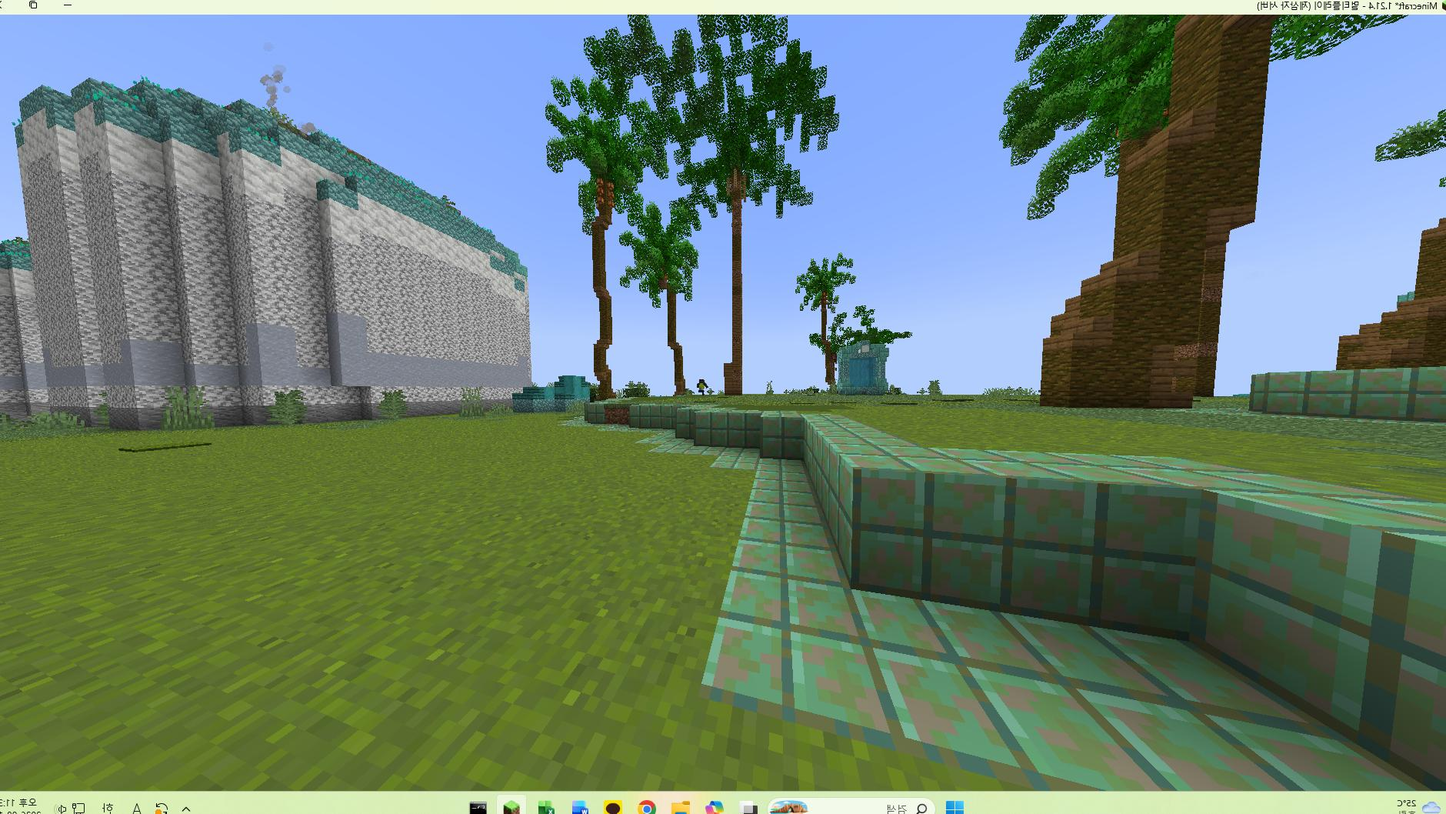Guardian: (697, 379, 705, 395)
